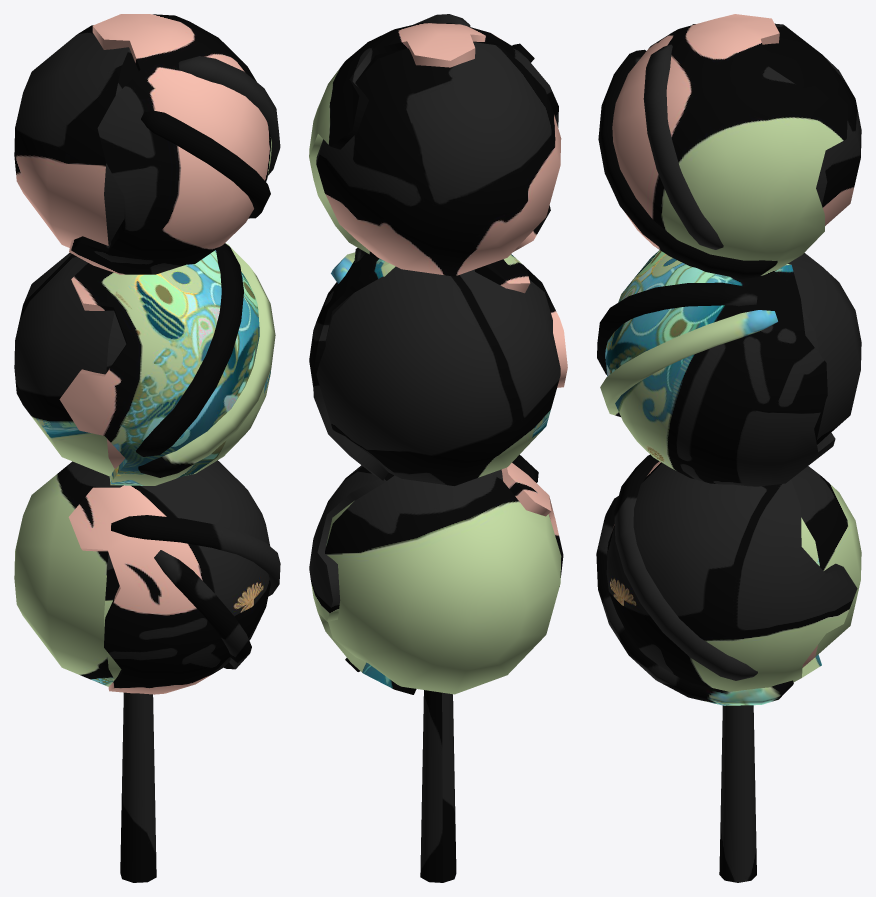
Rendered from Takoyaki2.fbx.
3 renders of one model, left to right at view 1: azimuth 30°, elevation 25°; view 2: azimuth 150°, elevation 25°; view 3: azimuth 270°, elevation 25°, orthographic.
Parts seen in each view (by area): view 1: Takoyaki2; view 2: Takoyaki2; view 3: Takoyaki2.
Boxes of the visible parts, box(x1,y1,x2,y2) form: Takoyaki2: box(14, 14, 280, 882); Takoyaki2: box(309, 14, 567, 882); Takoyaki2: box(596, 14, 861, 882).
Bounding box in the file's own units: 39.03 × 141 × 39.98.
